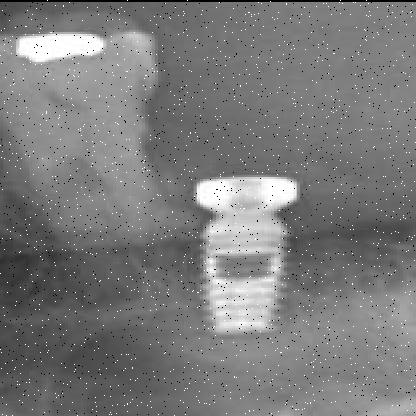Bicon: (194, 214, 284, 336)
